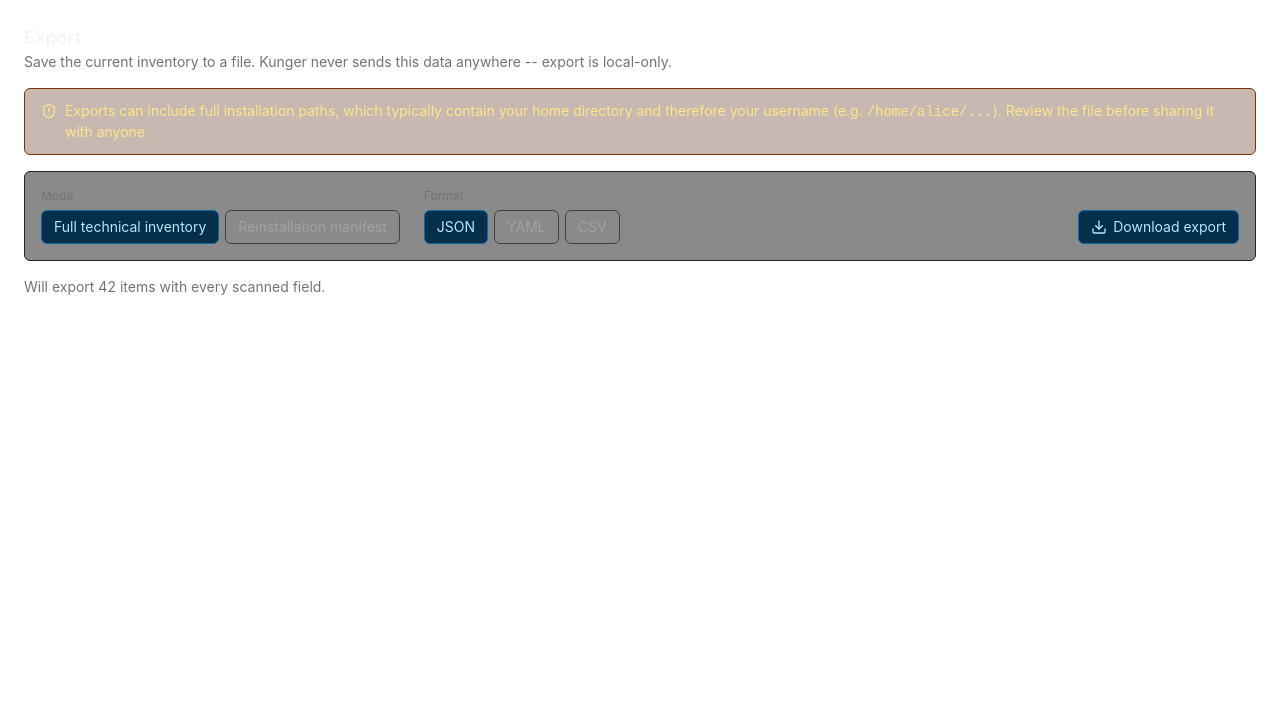
Test case: ExportPage › downloads the export and shows a success notification on click
Step 1. Click the button "Download export" → (1159, 227), box left=1078, top=210, right=1239, bottom=244
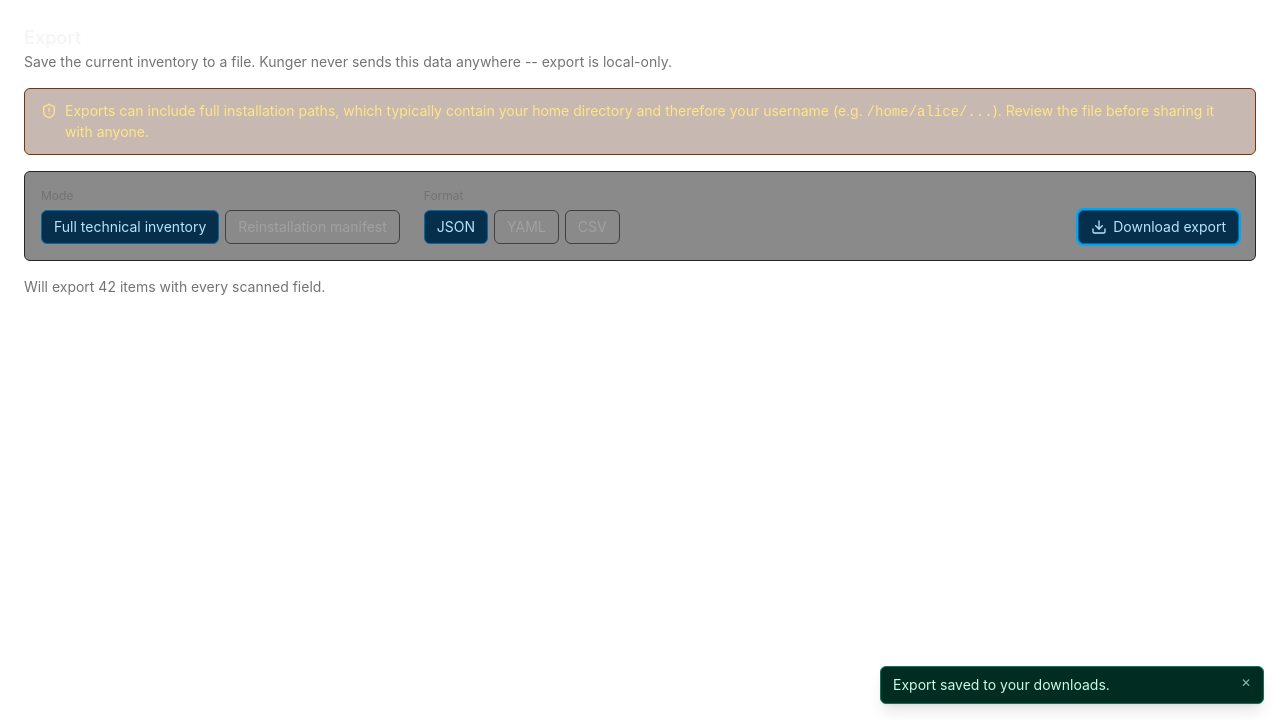
Result: the text "Export saved to your downloads." is shown at left=893, top=675, right=1110, bottom=695
